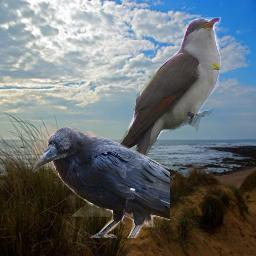Crow: (32, 124, 170, 238)
Cuckoo: (112, 17, 221, 227)
